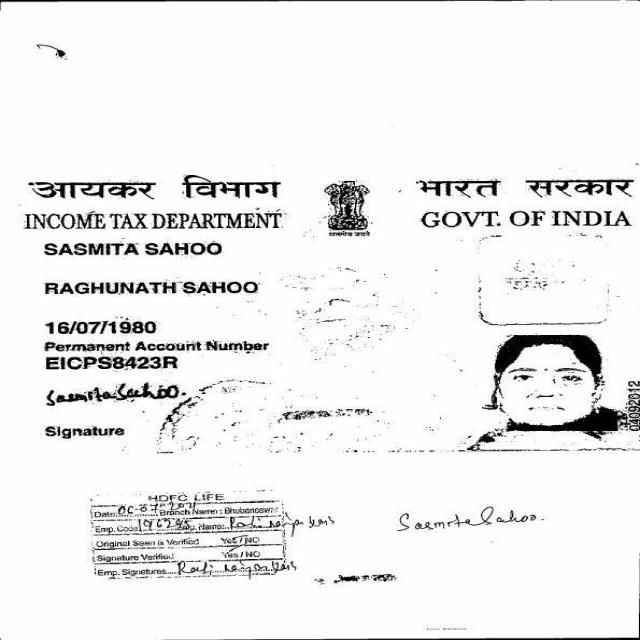pan_card: (8, 172, 637, 455)
